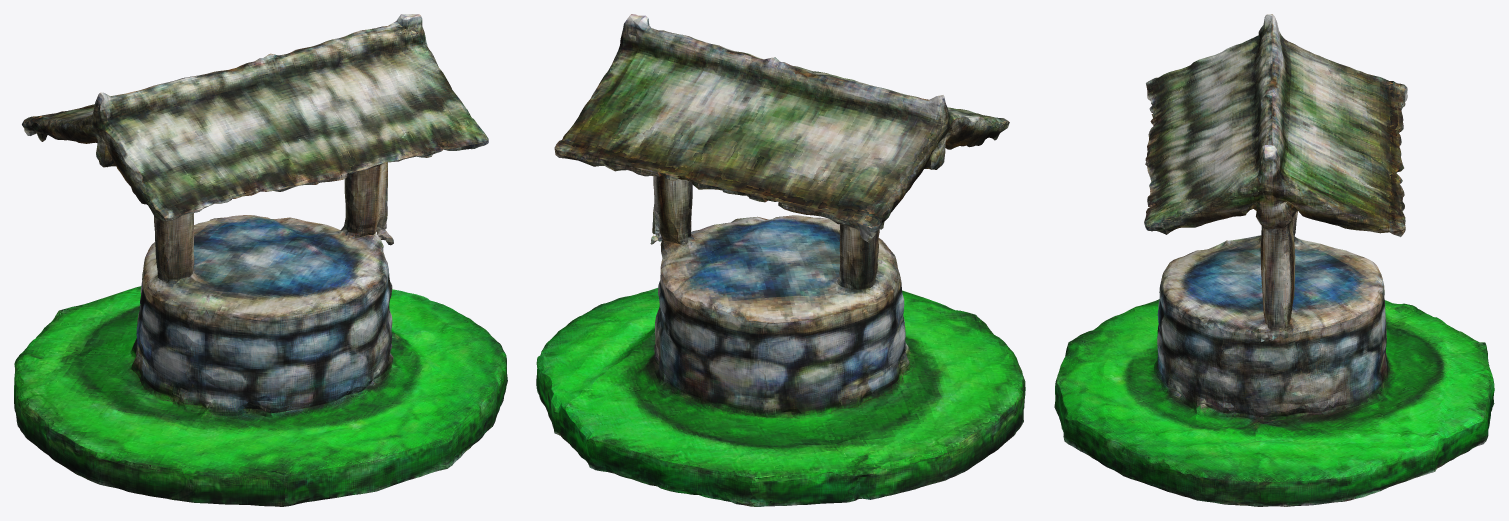
Rendered from a stone water well with a wooden shed.glb.
3 views of the same model, side by side, from view 1: azimuth 30°, elevation 25°; view 2: azimuth 150°, elevation 25°; view 3: azimuth 270°, elevation 25° (orthographic). The views are drawn at different scales.
Size of the model in its own units: 0.9574 by 0.7712 by 0.9144.
Materials: 1 (1 with a texture image).
